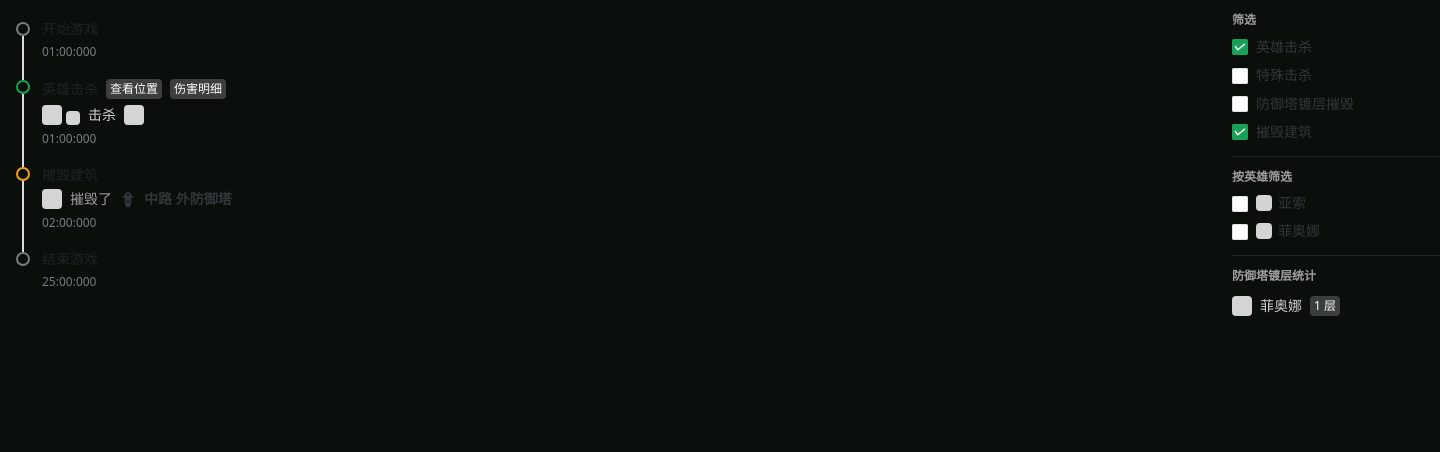
Test: MatchCardEventsTab › 勾选筛选器后一血/镀层事件出现；字段缺失事件（无 position）被跳过
The image size is (1440, 452).
Click the checkbox with class "n-checkbox" showing "特殊击杀" at coordinates (1272, 75), box [1232,65,1312,84]
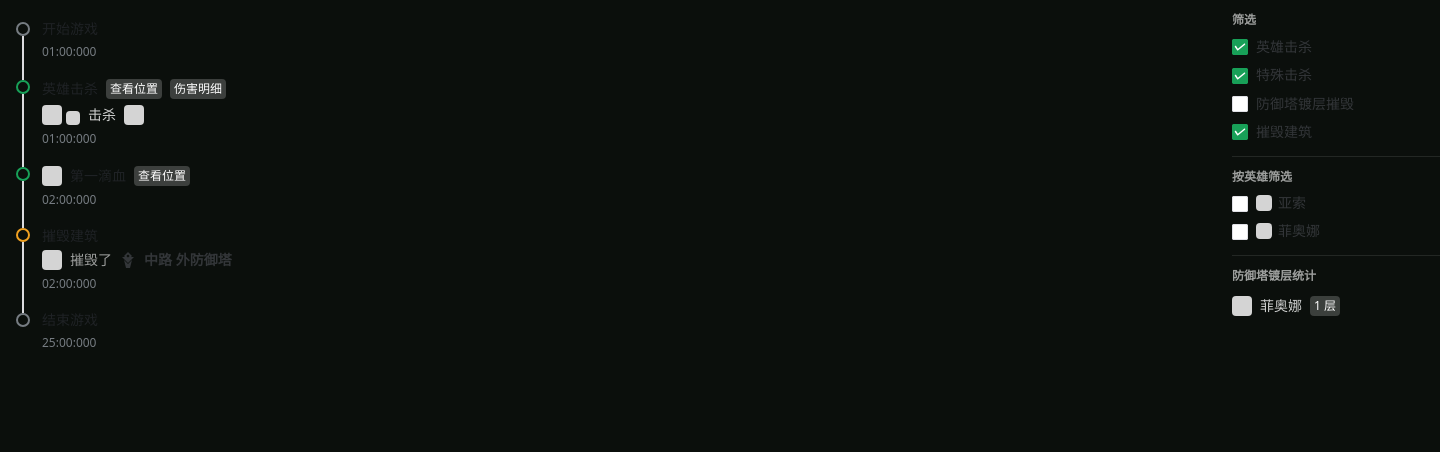
Click the checkbox with class "n-checkbox" showing "防御塔镀层摧毁" at coordinates (1293, 103), box [1232,94,1354,113]
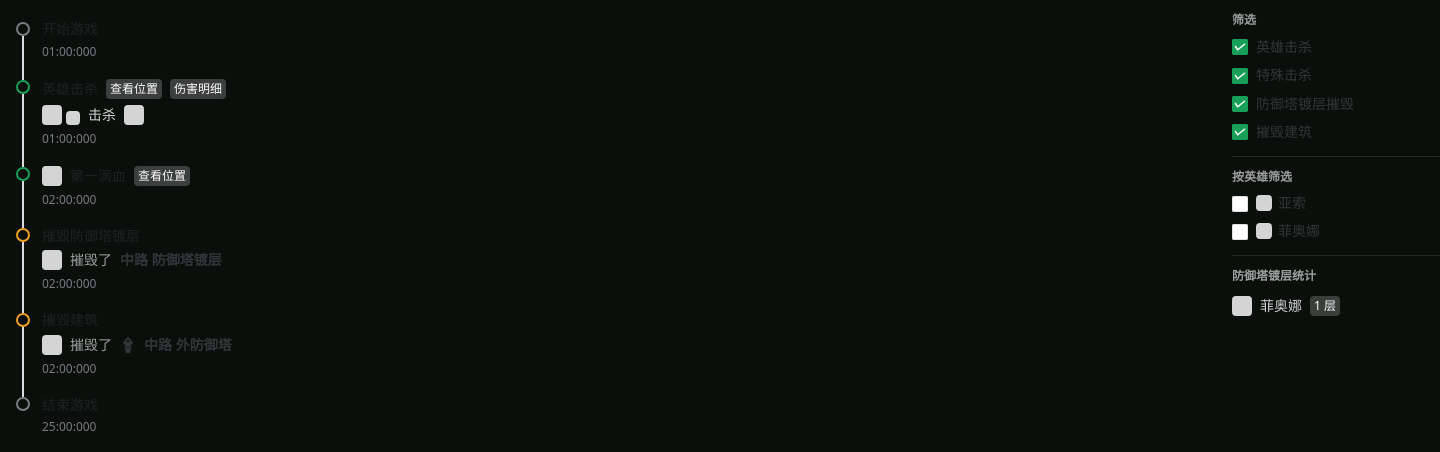
expect the text "摧毁防御塔镀层" is shown: met, box [42,226,140,244]
expect the text "第一滴血" is shown: met, box [70,167,126,184]
expect the number of elements with class "n-timeline-item" is 6: met, box [16,19,98,80]; [16,78,226,167]; [16,164,190,228]; [16,226,222,313]; [16,310,232,397]; [16,394,98,435]
